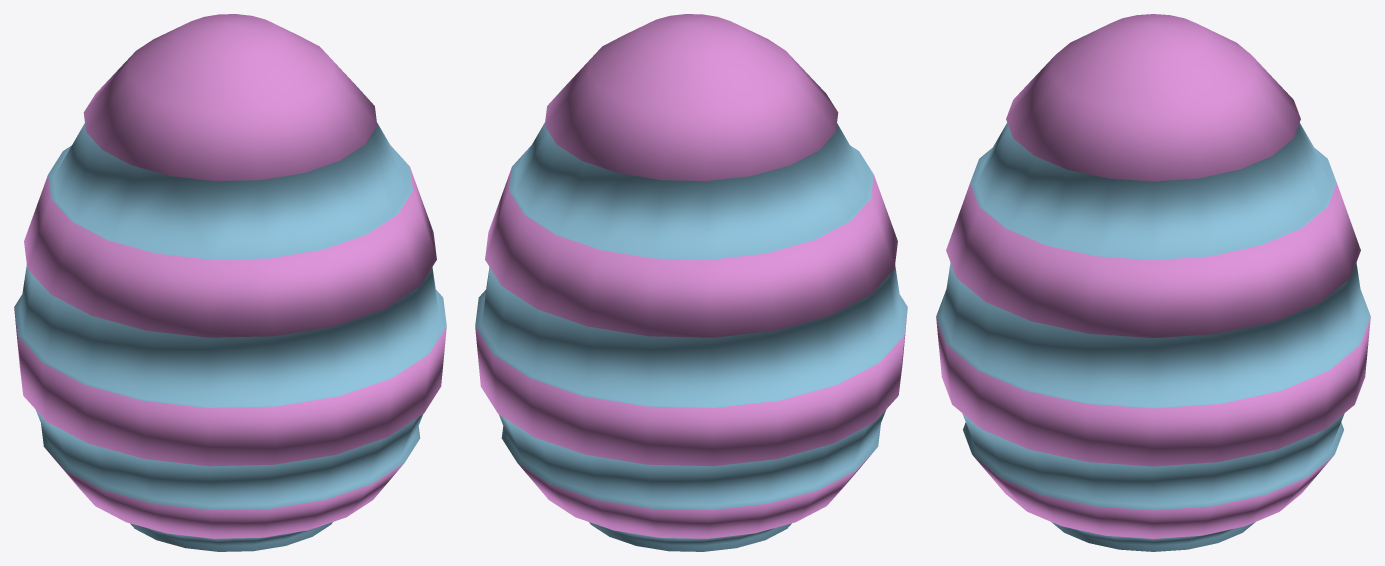
File: egg_stripey_2.gltf
3 renders of one model, left to right at view 1: azimuth 30°, elevation 25°; view 2: azimuth 150°, elevation 25°; view 3: azimuth 270°, elevation 25°, orthographic.
Visible parts, largest first — view 1: Egg stripey straight; view 2: Egg stripey straight; view 3: Egg stripey straight.
Part boxes in pixels (bbox=[...]): Egg stripey straight: bbox=[14, 14, 446, 551]; Egg stripey straight: bbox=[475, 14, 907, 551]; Egg stripey straight: bbox=[936, 14, 1370, 551].
Size of the model in its own units: 1.4 by 1.8 by 1.4.
